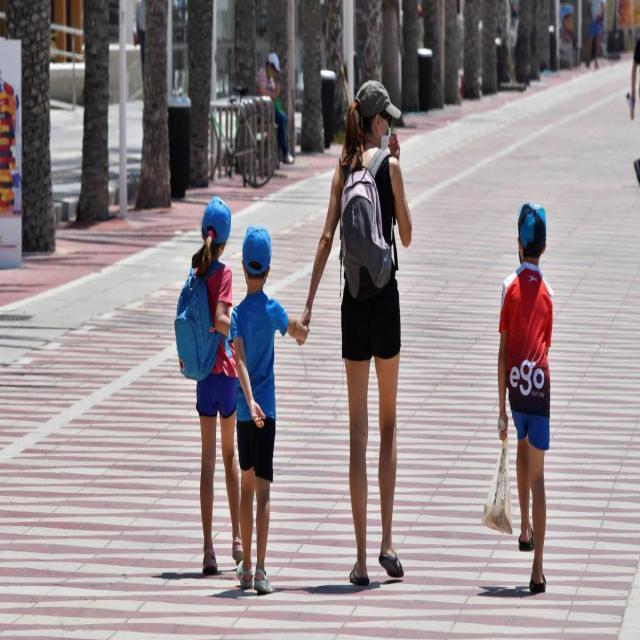person: (296, 66, 432, 612), (478, 190, 580, 620), (228, 213, 304, 602), (176, 184, 246, 581)
